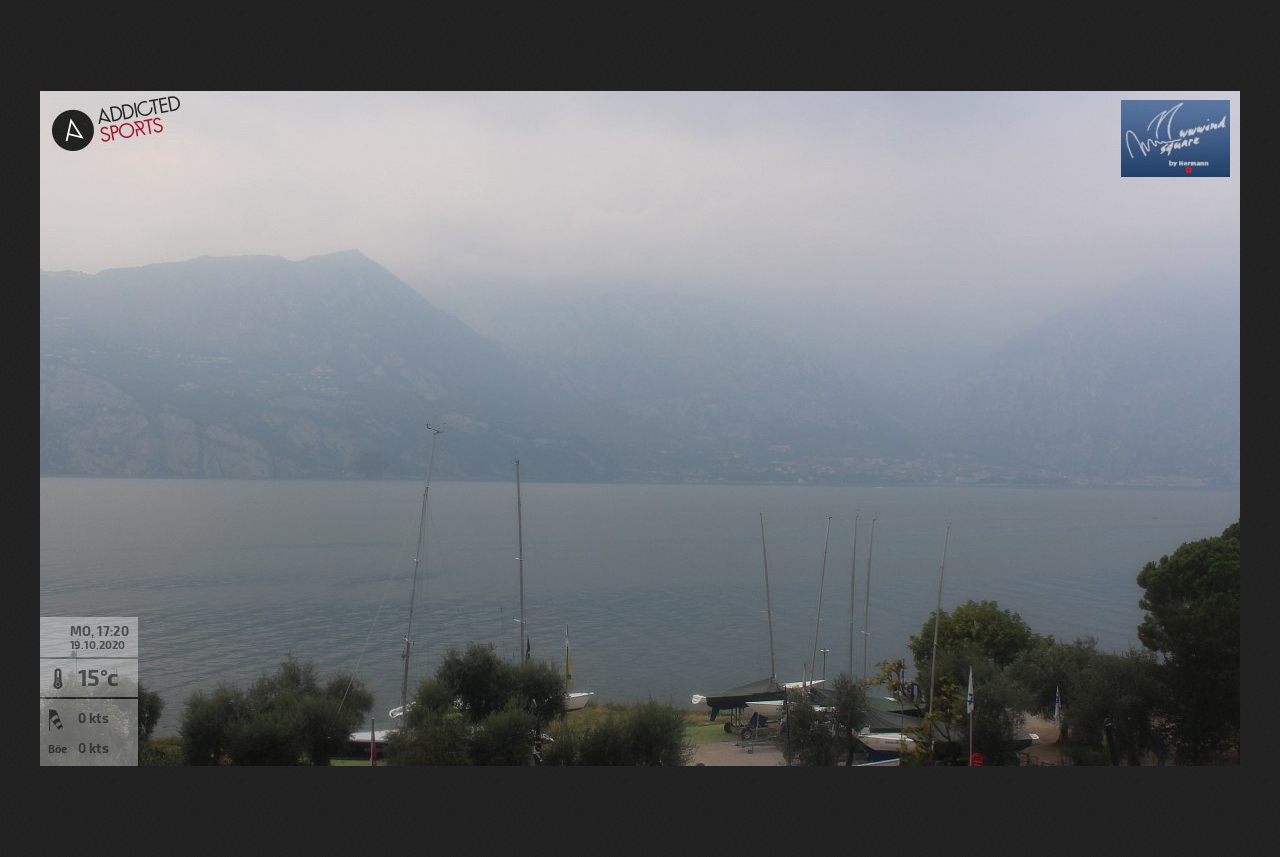no: (964, 668, 979, 716), (561, 635, 573, 693), (1052, 685, 1061, 720)
